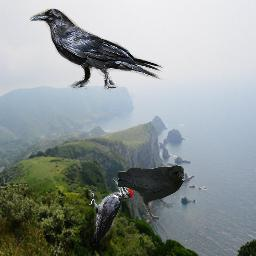Crow: (30, 8, 168, 92), (118, 165, 185, 221)
Woodpecker: (89, 179, 133, 244)
